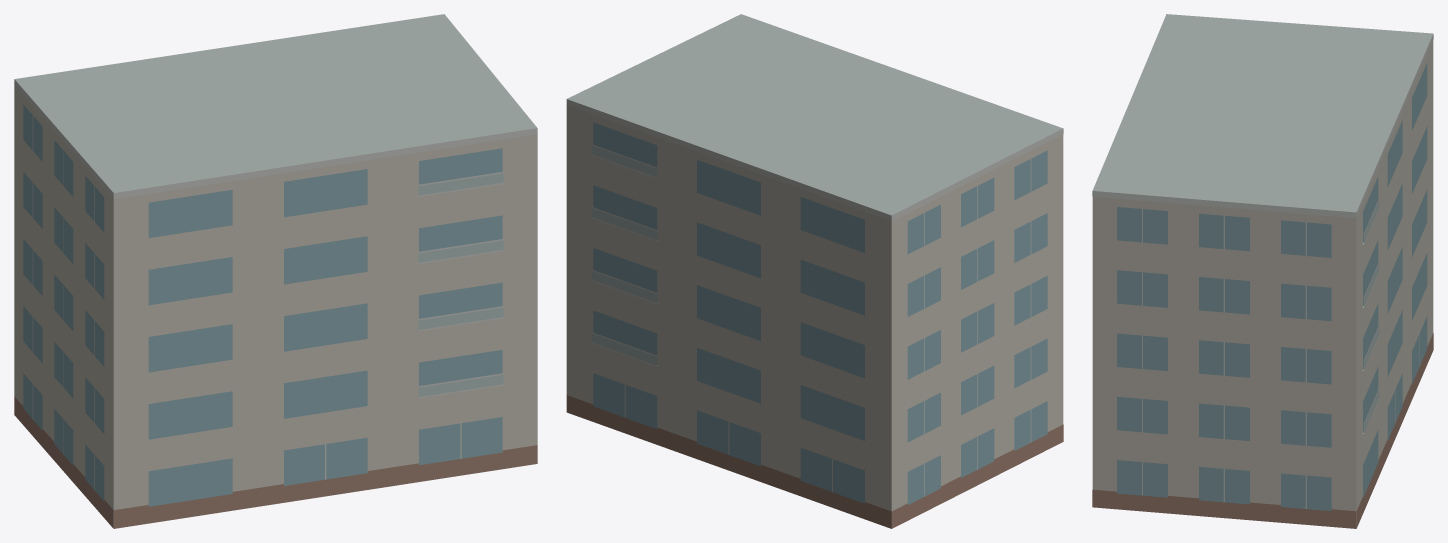
The model's file is survey-upis-32869225.glb.
The picture shows the model from 3 angles, left to right: view 1: azimuth 30°, elevation 25°; view 2: azimuth 150°, elevation 25°; view 3: azimuth 270°, elevation 25°; orthographic projection. The views are drawn at different scales.
Visible parts, largest first — view 1: survey-upis-32869225.tmp; view 2: survey-upis-32869225.tmp; view 3: survey-upis-32869225.tmp.
Boxes of the visible parts, x1,y1,x2,y2 form: survey-upis-32869225.tmp: [14, 14, 537, 528]; survey-upis-32869225.tmp: [566, 14, 1063, 528]; survey-upis-32869225.tmp: [1092, 14, 1433, 528].
Size of the model in its own units: 17.76 by 13.2 by 12.9.
